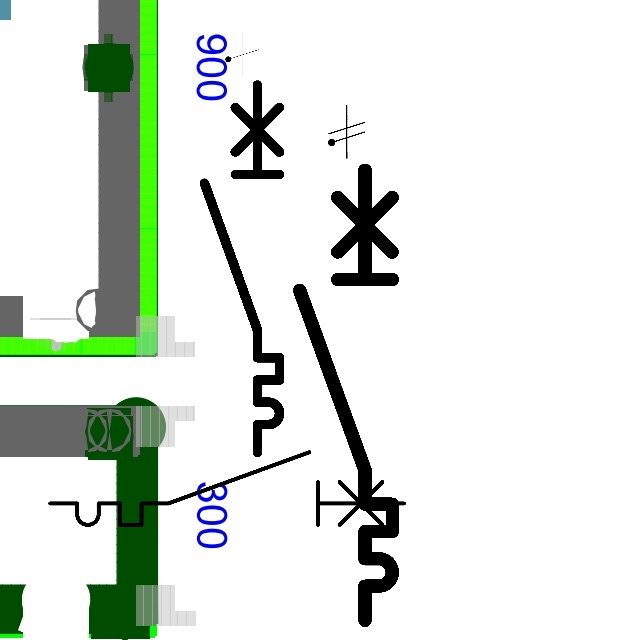interruptor_termomagnetico: (288, 158, 404, 631), (195, 75, 289, 461), (41, 443, 413, 534)
